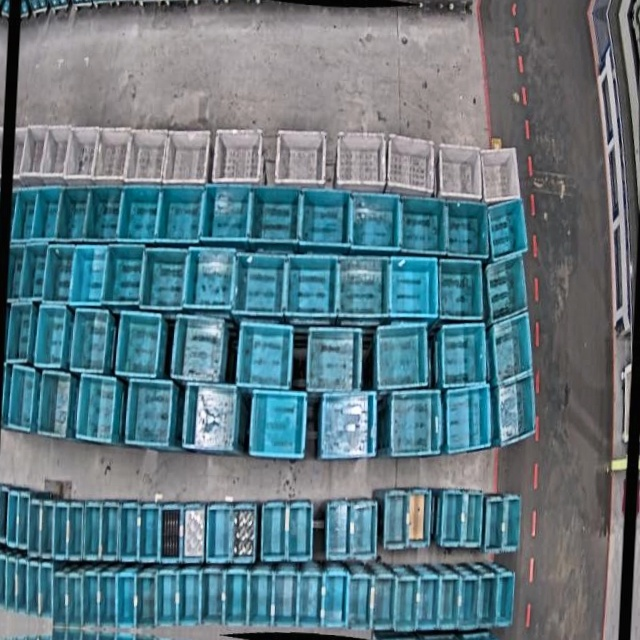Box: (237, 319, 297, 392), (249, 389, 310, 460), (318, 392, 378, 462), (373, 321, 431, 393), (307, 326, 366, 396), (388, 388, 444, 461), (443, 384, 498, 457), (437, 320, 493, 391), (481, 251, 533, 326), (336, 253, 392, 322), (489, 312, 541, 386), (490, 376, 540, 451), (388, 254, 442, 322), (188, 382, 239, 454), (175, 315, 227, 385), (283, 252, 338, 318), (235, 251, 289, 317), (436, 255, 488, 323), (333, 127, 387, 192), (384, 134, 437, 200), (273, 126, 327, 189), (249, 184, 303, 247), (126, 379, 175, 448), (184, 247, 236, 312), (301, 187, 355, 249), (348, 190, 401, 252), (114, 310, 162, 378), (211, 127, 263, 189), (200, 182, 251, 245), (398, 194, 449, 256), (485, 196, 532, 263), (443, 197, 492, 260), (158, 182, 207, 244), (437, 143, 486, 205), (163, 128, 211, 191), (73, 375, 117, 443), (140, 247, 187, 310), (478, 145, 525, 207), (72, 308, 113, 374), (103, 243, 144, 308), (125, 128, 169, 188), (119, 184, 162, 245), (91, 126, 131, 186), (86, 183, 124, 243), (72, 245, 109, 306), (39, 372, 73, 437), (36, 305, 70, 369), (64, 126, 99, 184), (56, 184, 91, 242), (7, 367, 38, 432), (347, 500, 378, 561), (45, 244, 76, 304), (383, 489, 413, 550), (31, 183, 62, 241), (259, 500, 288, 562), (8, 302, 37, 364), (204, 503, 233, 564), (407, 486, 435, 548), (287, 500, 315, 561), (40, 126, 71, 181), (20, 243, 49, 301), (18, 126, 49, 180), (231, 503, 258, 565), (438, 491, 467, 548), (325, 502, 353, 561), (297, 570, 325, 628), (273, 572, 300, 628), (182, 502, 207, 562), (370, 575, 396, 632), (323, 571, 349, 627), (248, 569, 273, 627), (11, 186, 37, 241), (223, 571, 248, 628), (139, 503, 163, 562), (416, 575, 441, 631), (348, 574, 373, 630), (200, 569, 225, 625), (177, 571, 202, 627), (395, 577, 420, 632), (114, 571, 137, 629), (160, 506, 183, 564), (119, 502, 141, 562), (135, 572, 158, 629), (438, 577, 461, 632), (99, 501, 120, 561), (477, 574, 499, 630), (482, 497, 504, 553), (156, 571, 178, 627), (83, 502, 103, 561), (458, 579, 480, 630), (502, 495, 521, 554), (81, 572, 101, 628), (66, 502, 85, 560), (67, 571, 86, 628), (96, 574, 116, 628), (496, 572, 515, 628), (40, 500, 57, 559), (51, 573, 69, 628), (52, 502, 69, 560), (39, 564, 56, 619), (26, 560, 42, 617), (8, 491, 24, 548), (28, 500, 42, 559), (15, 558, 29, 616), (16, 493, 30, 551), (6, 490, 19, 547), (5, 557, 18, 613), (0, 486, 10, 545), (0, 555, 8, 610)
